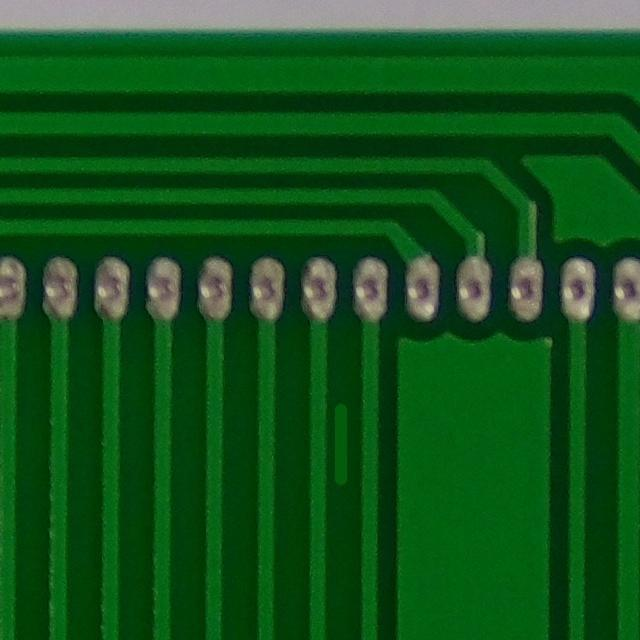spurious_copper: (318, 388, 366, 490)
